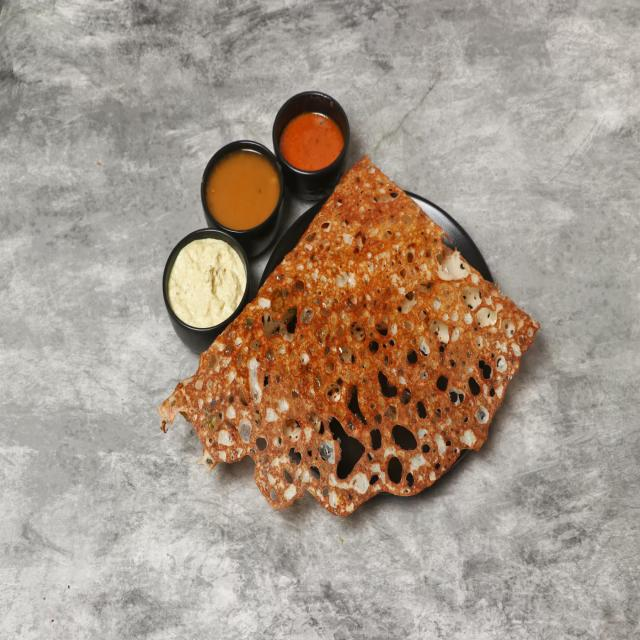DOSA: (129, 143, 577, 573)
RED CHUTNEY: (274, 83, 347, 169)
SAMBAR: (200, 137, 279, 235)
WHITE CHUTNEY: (151, 235, 247, 339)
